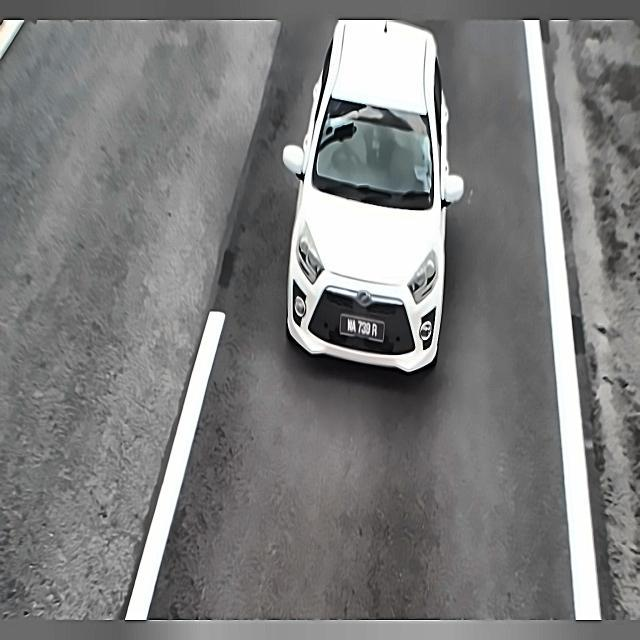car: (337, 309, 387, 346)
